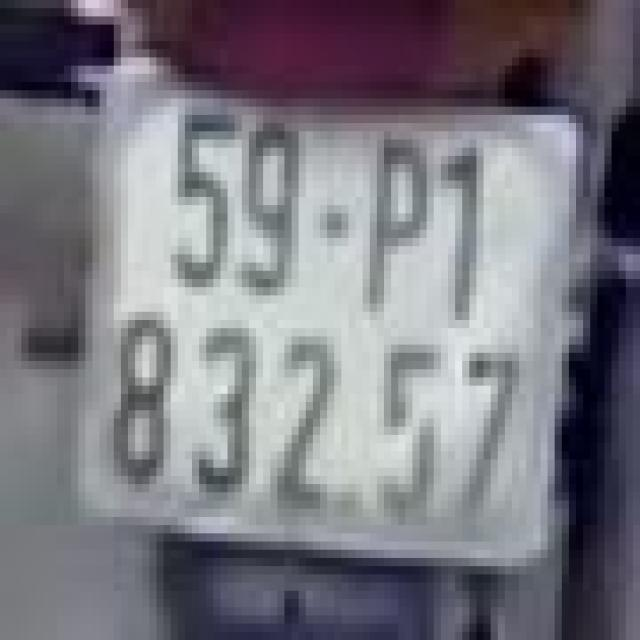1: (434, 127, 498, 332)
2: (263, 324, 341, 529)
3: (188, 312, 260, 509)
5: (363, 332, 448, 530), (156, 98, 234, 296)
7: (448, 345, 533, 533)
8: (96, 304, 181, 492)
9: (234, 115, 306, 303)
P: (352, 127, 437, 324)
